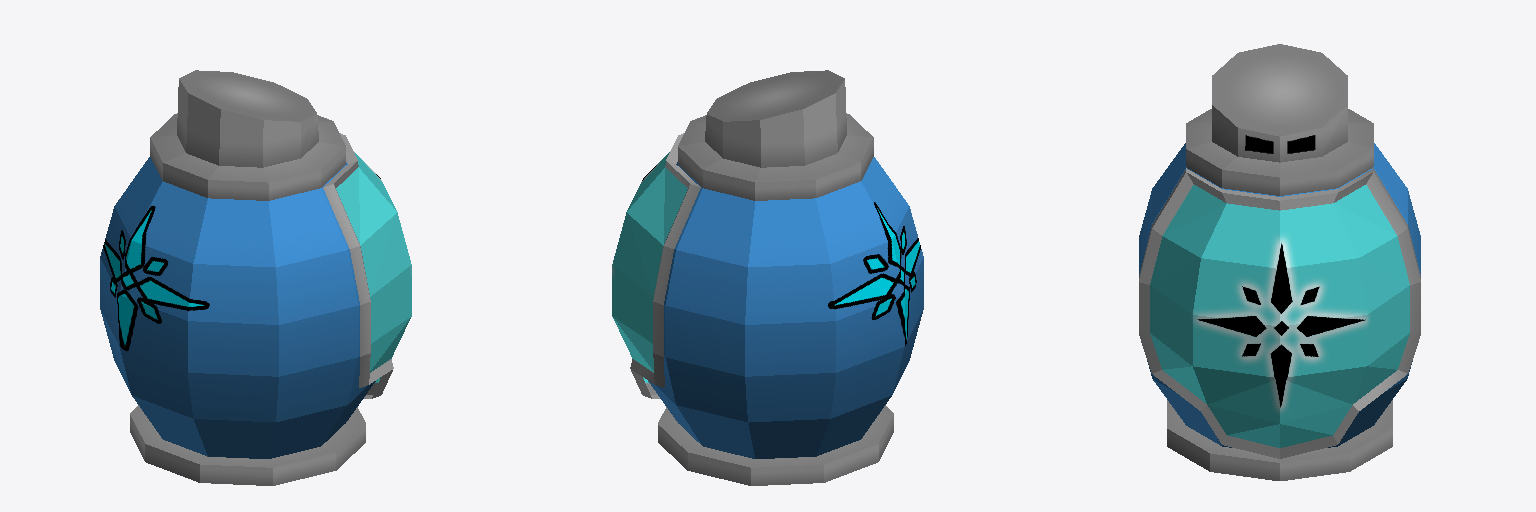
3 views of the same model, side by side, from view 1: azimuth 30°, elevation 25°; view 2: azimuth 150°, elevation 25°; view 3: azimuth 270°, elevation 25° (orthographic).
Parts seen in each view (by area): view 1: Cylinder001, Object001; view 2: Cylinder001, Object001; view 3: Object001, Cylinder001.
Part boxes in pixels (bbox=[...]): Cylinder001: bbox=[100, 70, 375, 485]; Object001: bbox=[323, 133, 411, 398]; Cylinder001: bbox=[648, 70, 923, 485]; Object001: bbox=[612, 133, 700, 398]; Object001: bbox=[1139, 168, 1420, 458]; Cylinder001: bbox=[1139, 44, 1420, 480].
Bounding box in the file's own units: 0.7752 × 0.9711 × 0.6946.
Materials: 2 (2 with a texture image).